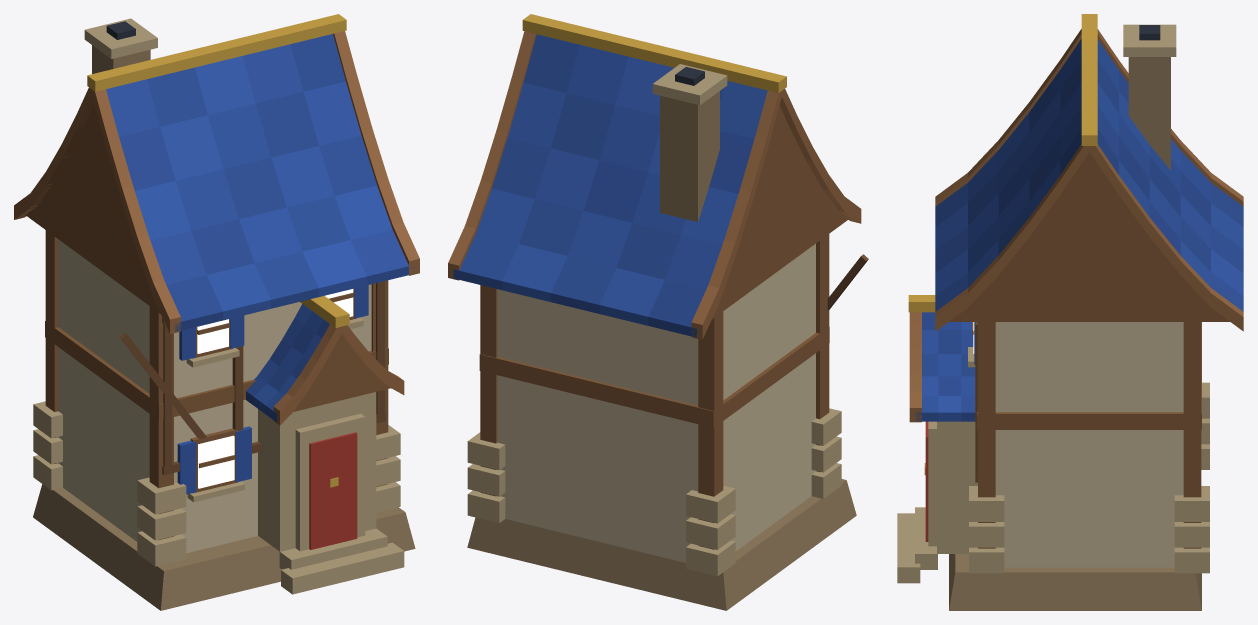
Rendered from house_t3.glb.
3 renders of one model, left to right at view 1: azimuth 30°, elevation 25°; view 2: azimuth 150°, elevation 25°; view 3: azimuth 270°, elevation 25°, orthographic. The views are drawn at different scales.
Parts seen in each view (by area): view 1: body, glow; view 2: body; view 3: body.
Boxes of the visible parts, left/top/right/bottom form: body: left=14, top=14, right=419, bottom=610; glow: left=197, top=289, right=353, bottom=488; body: left=448, top=14, right=868, bottom=610; body: left=897, top=14, right=1243, bottom=610.
Bounding box in the file's own units: 1.8 × 3.04 × 1.95.
